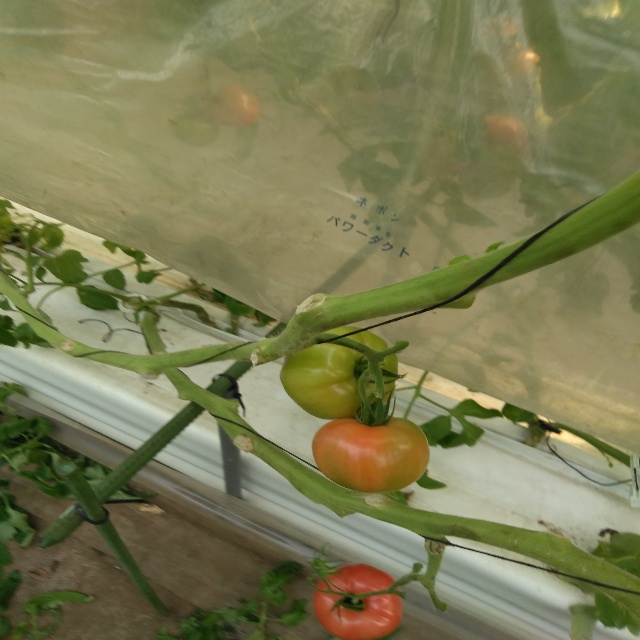b_fully_ripened: (313, 563, 402, 640)
b_green: (280, 326, 398, 419)
b_half_ripened: (312, 415, 431, 493)
